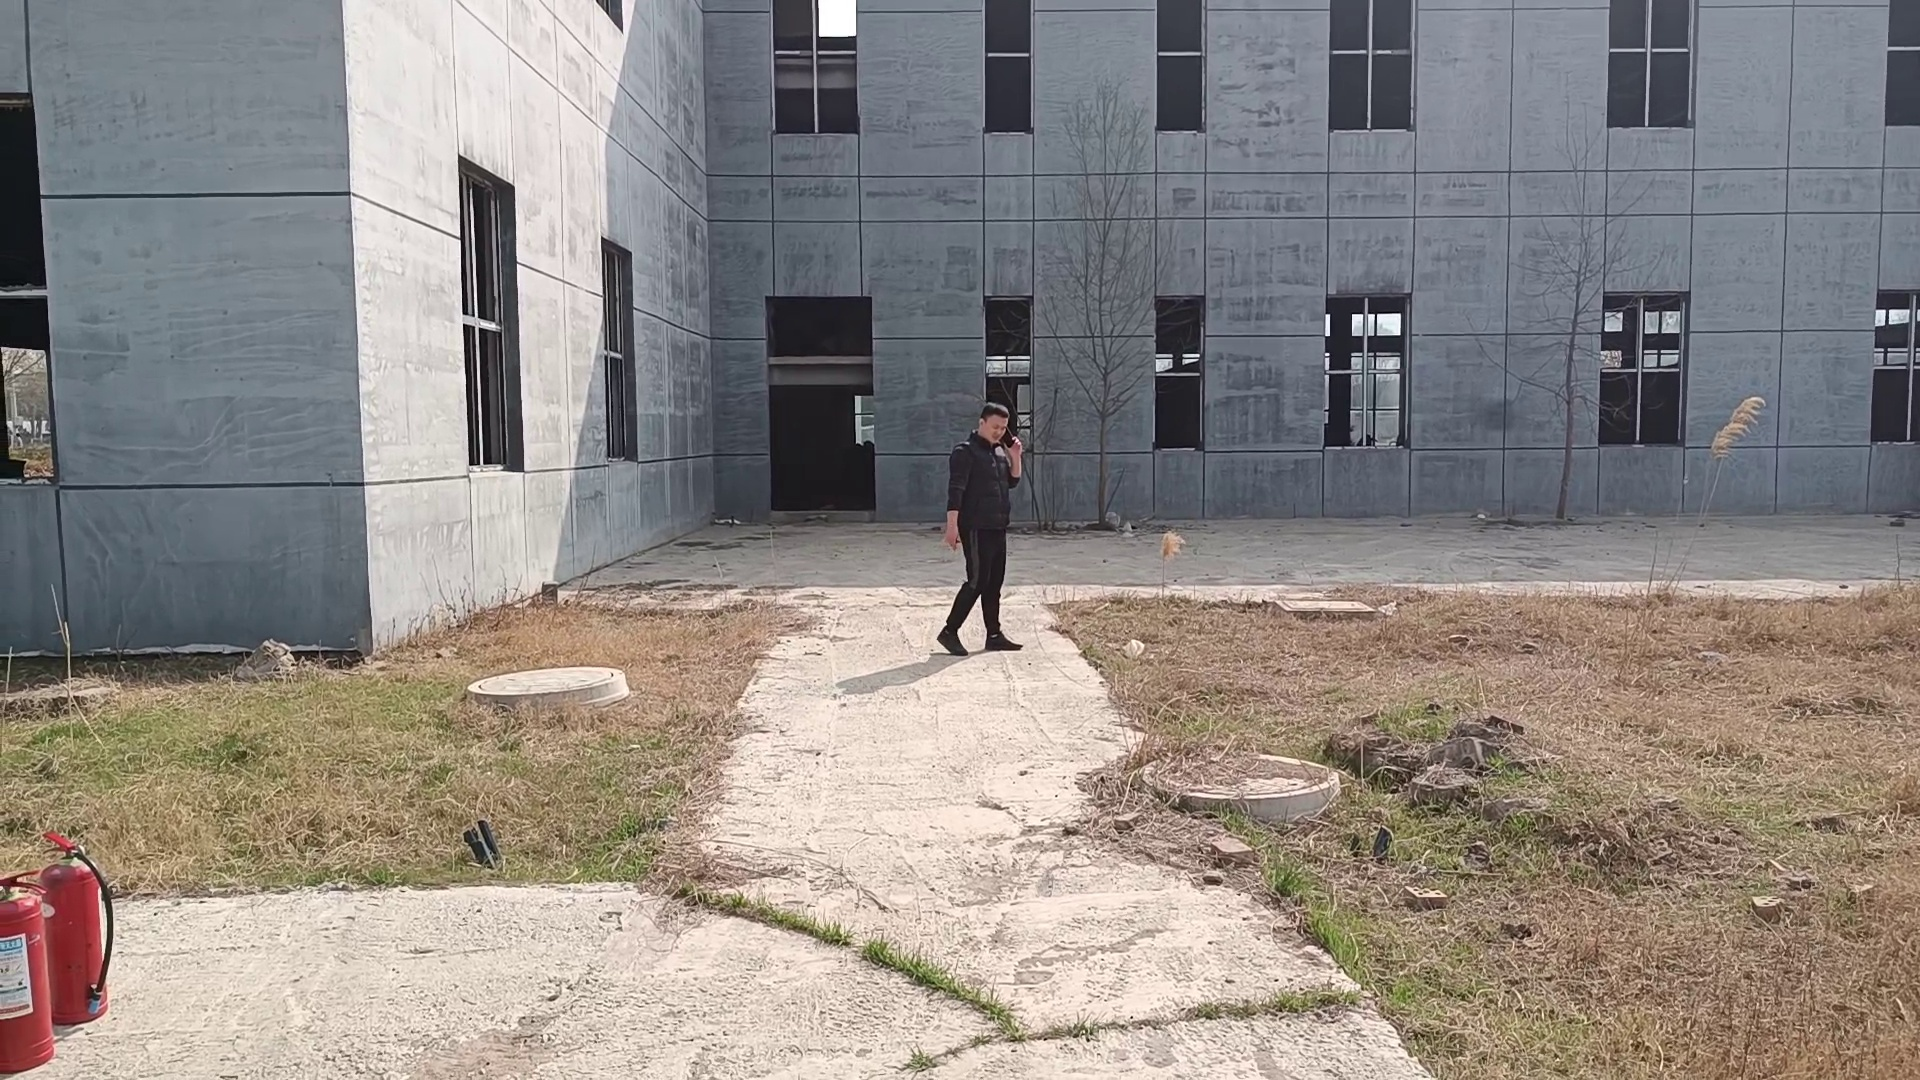phone: (971, 397, 1021, 454)
